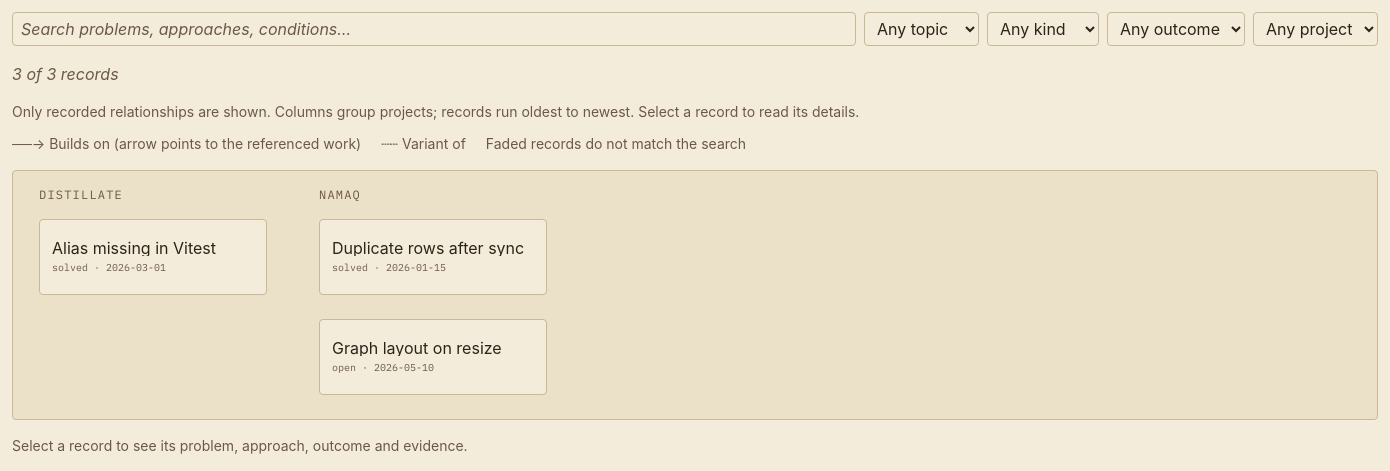
Test: RecordSearch graph mode › retains all graph nodes when Filter by outcome narrows the matches
Select "open" in the dropdown named "Filter by outcome". click: (1176, 29)
box: [1107,12,1245,46]
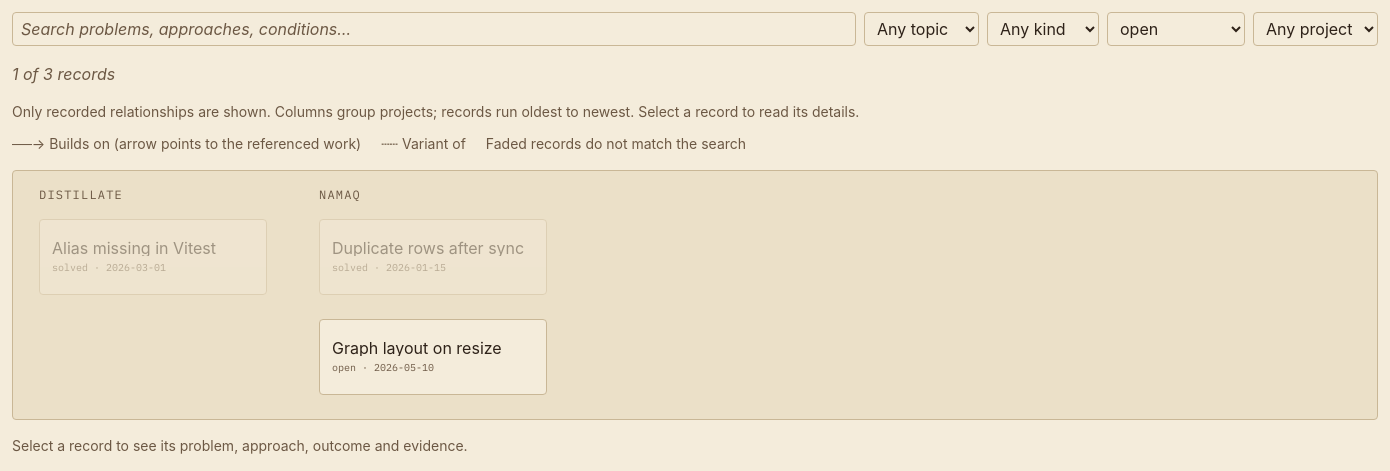
expect the text "1 of 3 records" is shown: met, box [12,64,115,84]
